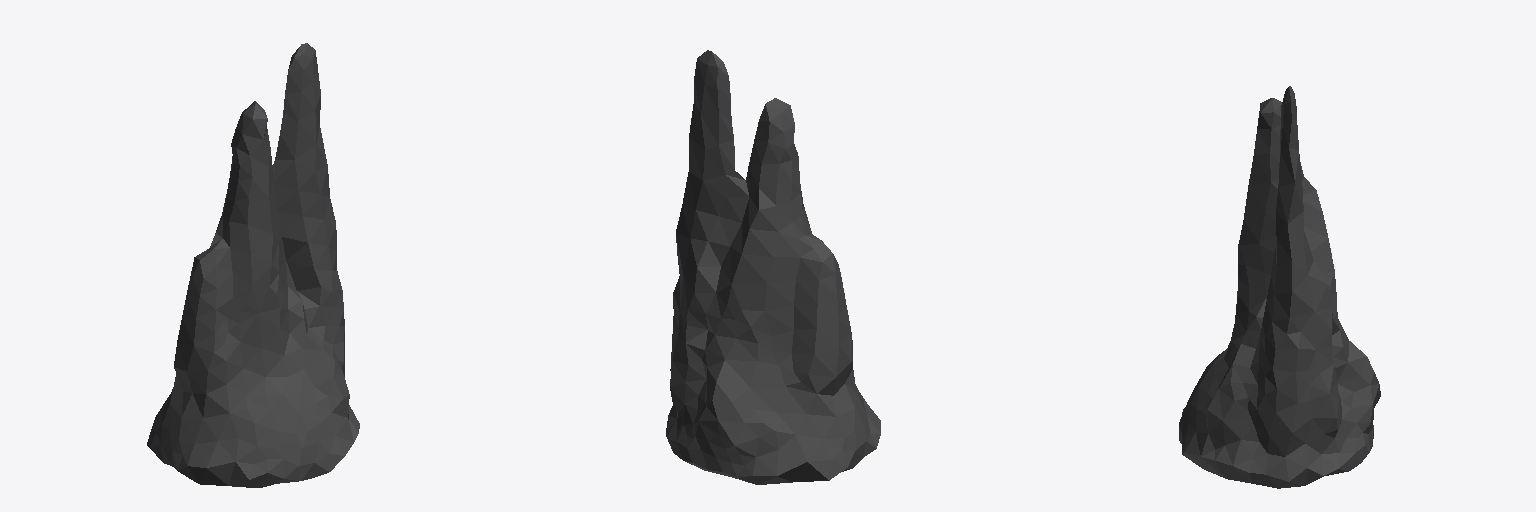
File: CaveRockPack1_Low4.obj
3 renders of one model, left to right at view 1: azimuth 30°, elevation 25°; view 2: azimuth 150°, elevation 25°; view 3: azimuth 270°, elevation 25°, orthographic.
Parts seen in each view (by area): view 1: CaveRockPack1_Low4; view 2: CaveRockPack1_Low4; view 3: CaveRockPack1_Low4.
Boxes of the visible parts, <box> form: CaveRockPack1_Low4: <box>147,43,359,487</box>; CaveRockPack1_Low4: <box>666,50,880,484</box>; CaveRockPack1_Low4: <box>1179,86,1380,488</box>.
Bounding box in the file's own units: 10.76 × 21.55 × 10.09.